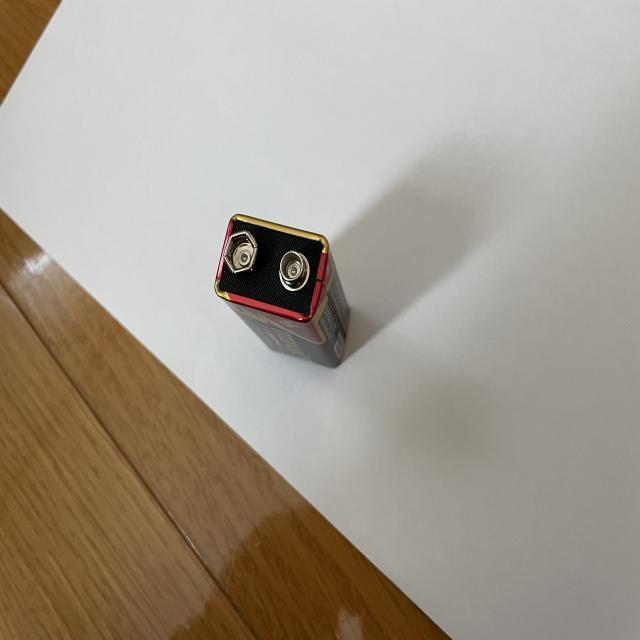9V: (215, 213, 351, 369)
